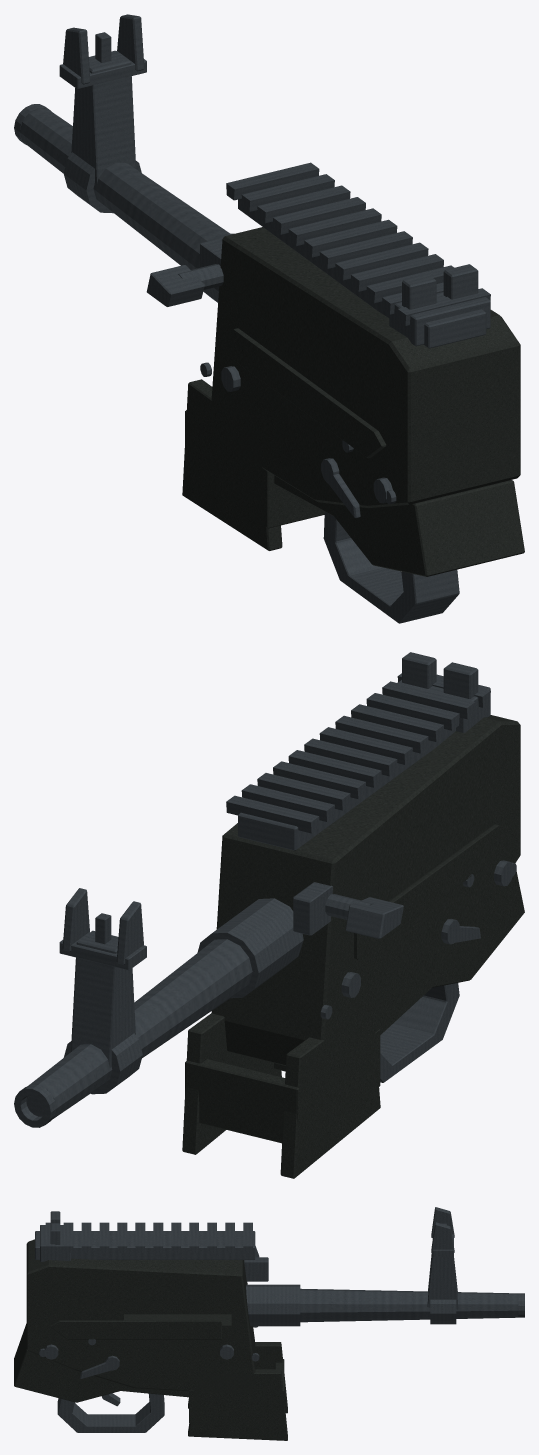
The model's file is weapon_scorpion.glb.
3 views of the same model, one above another, from view 1: azimuth 30°, elevation 25°; view 2: azimuth 150°, elevation 25°; view 3: azimuth 270°, elevation 25° (orthographic). The views are drawn at different scales.
Visible parts, largest first — view 1: body_LOD0, action_LOD0; view 2: body_LOD0, action_LOD0; view 3: body_LOD0, action_LOD0.
Boxes of the visible parts, left/top/right/bottom form: body_LOD0: left=14, top=14, right=524, bottom=623; action_LOD0: left=146, top=239, right=223, bottom=306; body_LOD0: left=14, top=652, right=524, bottom=1178; action_LOD0: left=293, top=882, right=403, bottom=938; body_LOD0: left=14, top=1207, right=524, bottom=1440; action_LOD0: left=244, top=1246, right=268, bottom=1281.
Size of what is drawn, in the model's own units: 0.1475 by 0.2857 by 0.6257.
Materials: 1 (1 with a texture image).
